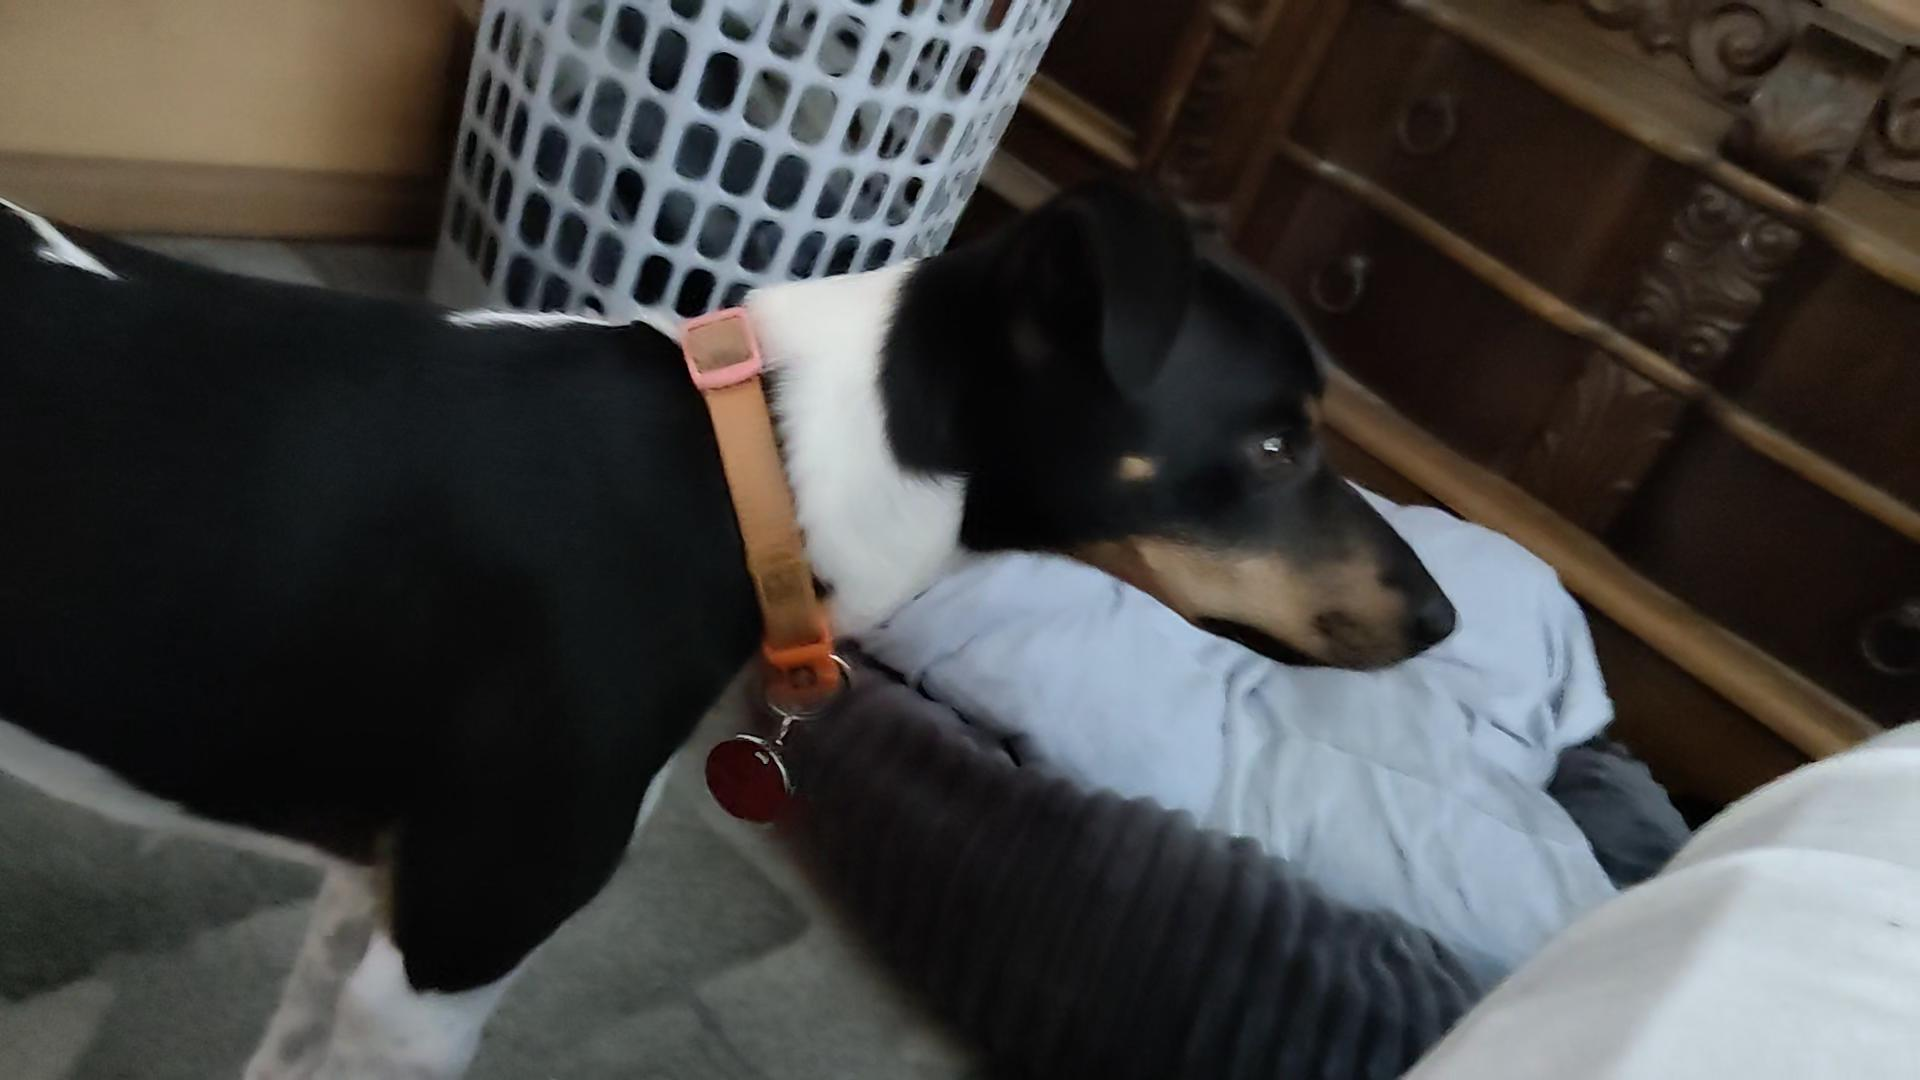Dog: (0, 158, 1469, 1079)
